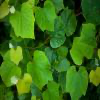grape leaf: (26, 50, 56, 91), (10, 2, 36, 40), (63, 65, 89, 99), (35, 1, 57, 33), (9, 45, 24, 67), (89, 67, 99, 87)
